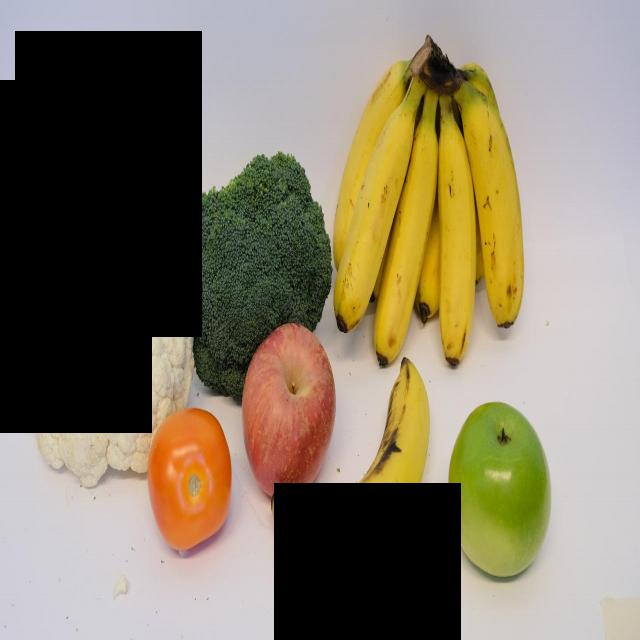apple: (448, 403, 550, 576), (245, 325, 334, 505)
banana: (264, 359, 432, 589), (334, 107, 420, 334), (371, 128, 441, 362), (327, 61, 401, 280), (462, 92, 530, 322), (438, 120, 474, 364)
broccoli: (175, 148, 332, 399)
cauliflower: (25, 248, 192, 485)
tomato: (147, 405, 234, 556)
